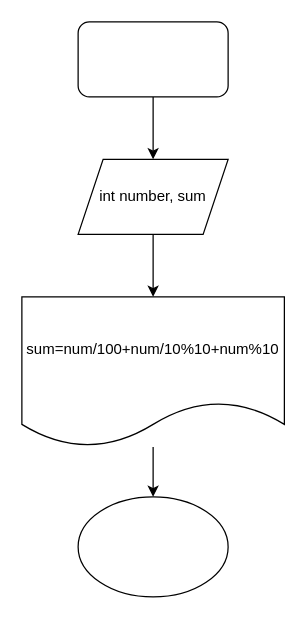
Some shapes in this 306 by 619 pixel diagram are drawn without their labels. The shapes that lost their labels are listed below. From the top down, each one's centre as x and y in pixels, then its label:
pixel 152 59: Start
pixel 152 546: End
